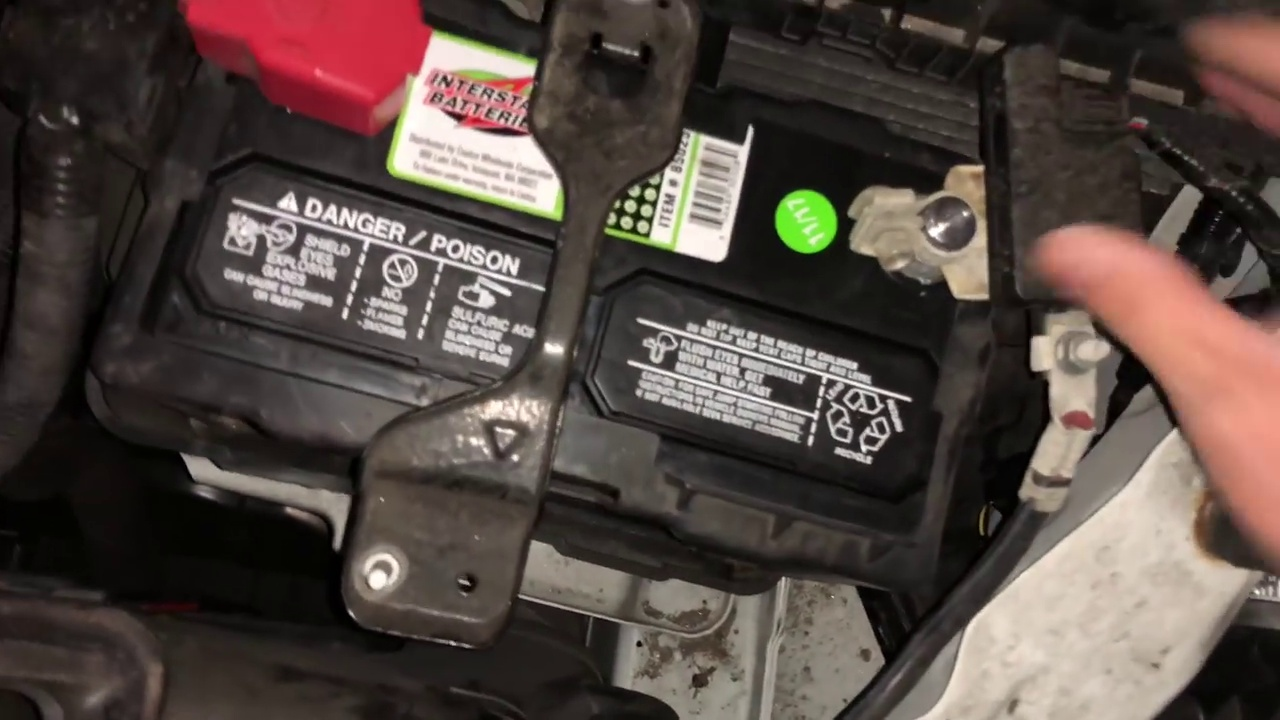battery: (170, 5, 948, 511)
neg_connected: (820, 147, 1002, 297)
pos_connected: (182, 9, 435, 133)
